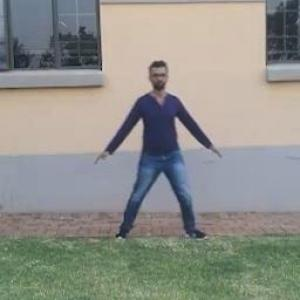land: (88, 55, 231, 244)
